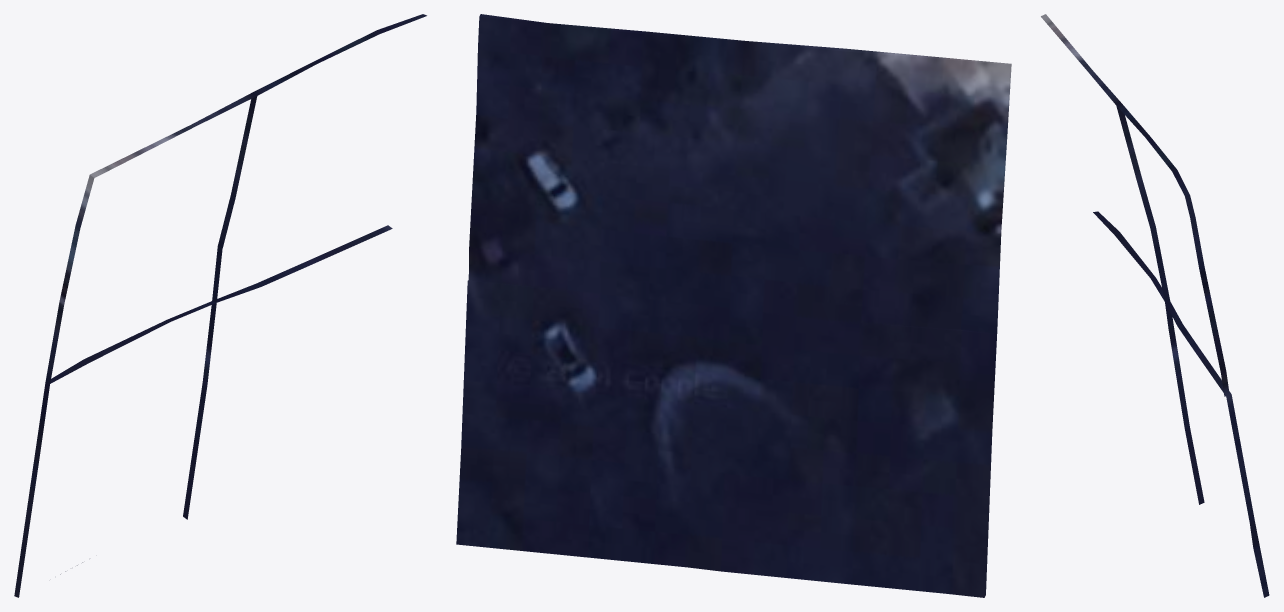
The picture shows the model from 3 angles, left to right: view 1: azimuth 30°, elevation 25°; view 2: azimuth 150°, elevation 25°; view 3: azimuth 270°, elevation 25°; orthographic projection. The views are drawn at different scales.
Size of the model in its own units: 38.02 by 37.58 by 18.86.
Materials: 1 (1 with a texture image).
